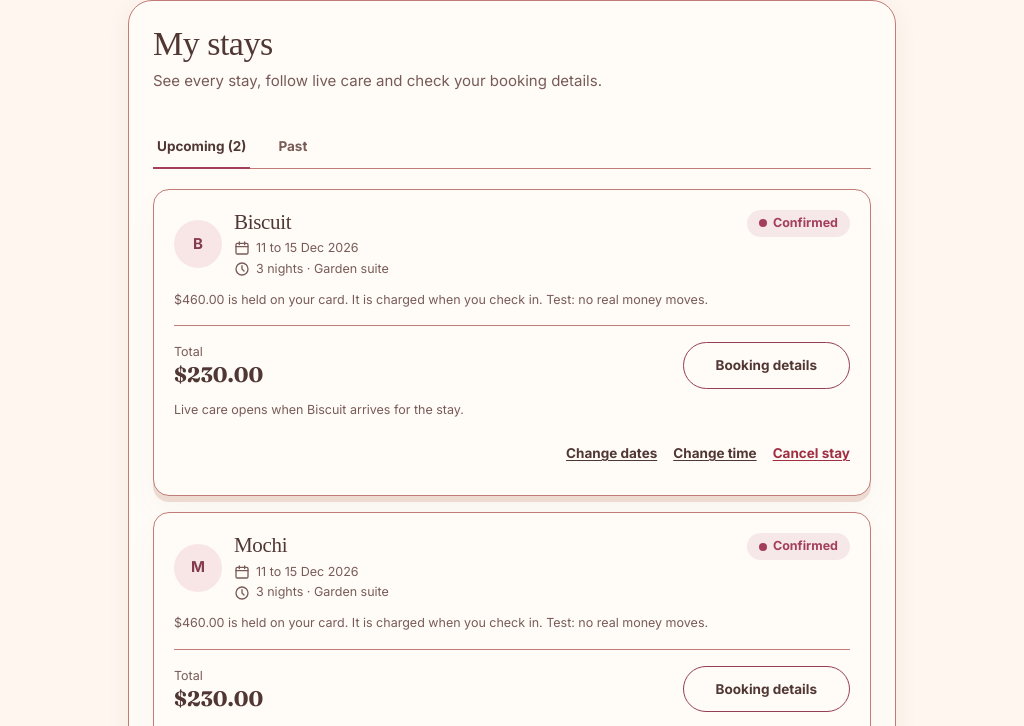
My Stays with a saved card › shows the exact cost before cancelling, then cancels every pet on the booking
Click the 1st button "Cancel stay". click: point(811, 453)
box: [773,431,850,475]
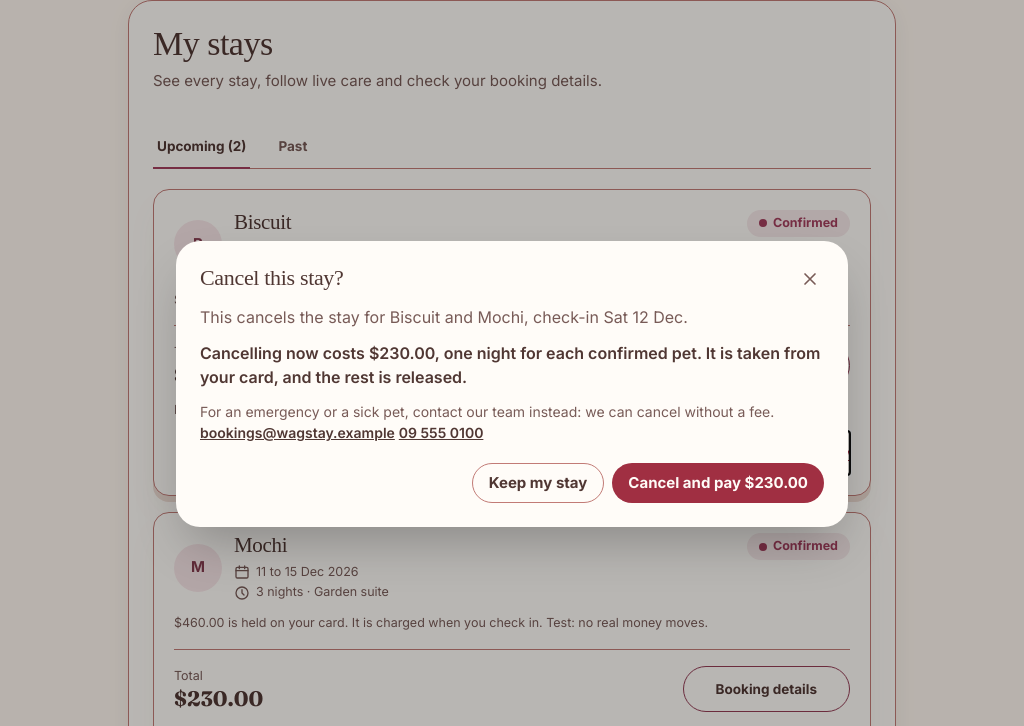
Check: the dialog "Cancel this stay?" shows "This cancels the stay for Biscuit and Mochi, check-in Sat 12 Dec.", box [200,307,688,327]
Check: the text "Cancelling now costs $230.00, one night for each confirmed pet. It is taken from your card, and the rest is released." is shown, box [200,343,820,387]
Click the button "Cancel and pay $230.00". click: point(718, 483)
box: [612,463,824,503]
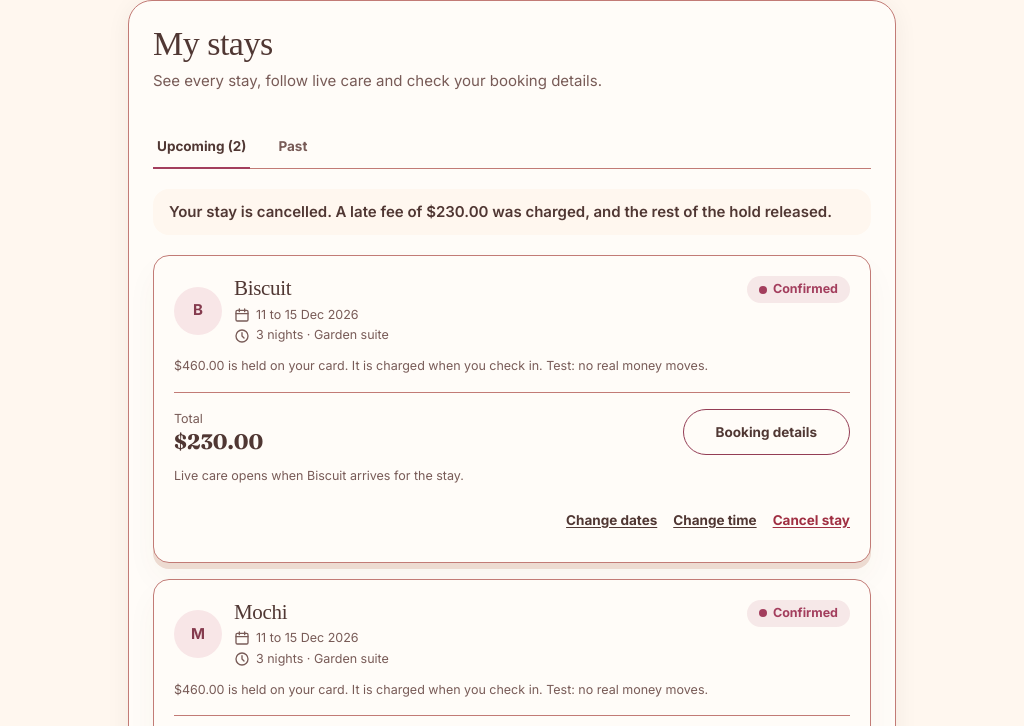
Check: the message shows "Your stay is cancelled. A late fee of $230.00 was charged, and the rest of the hold released.", box [169,202,832,221]
Check: the heading "Cancel this stay?" is gone
